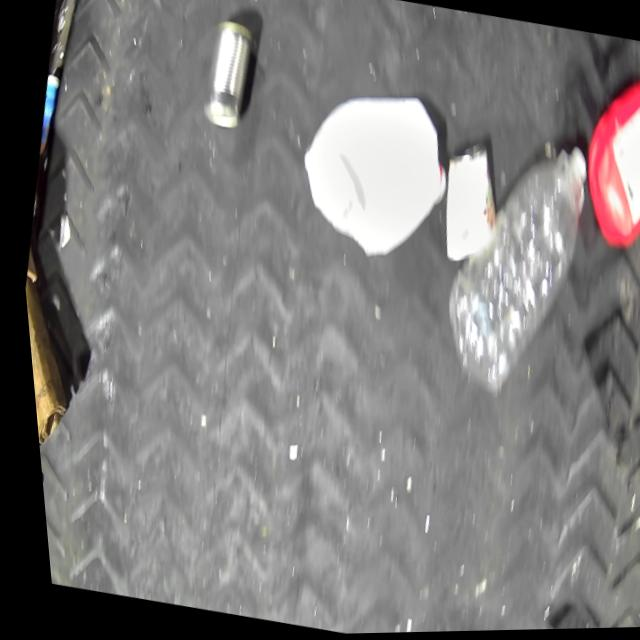can: (424, 139, 510, 273), (194, 20, 261, 133)
milk_jug: (279, 80, 464, 273)
non_white_jug: (563, 68, 640, 260)
plastic_bottle: (415, 129, 605, 411)
